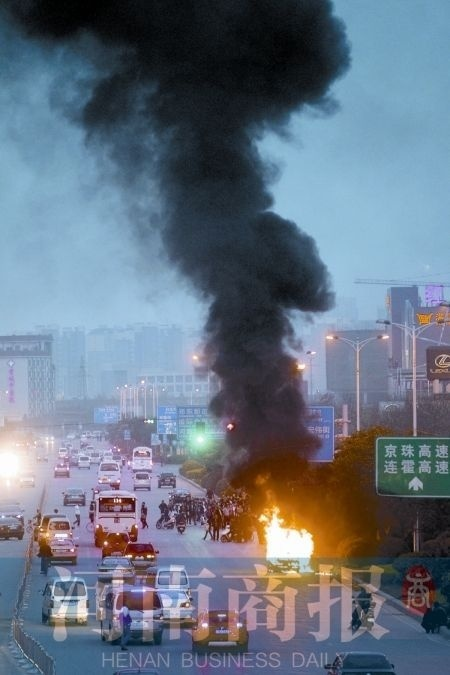fire: (258, 502, 316, 568)
